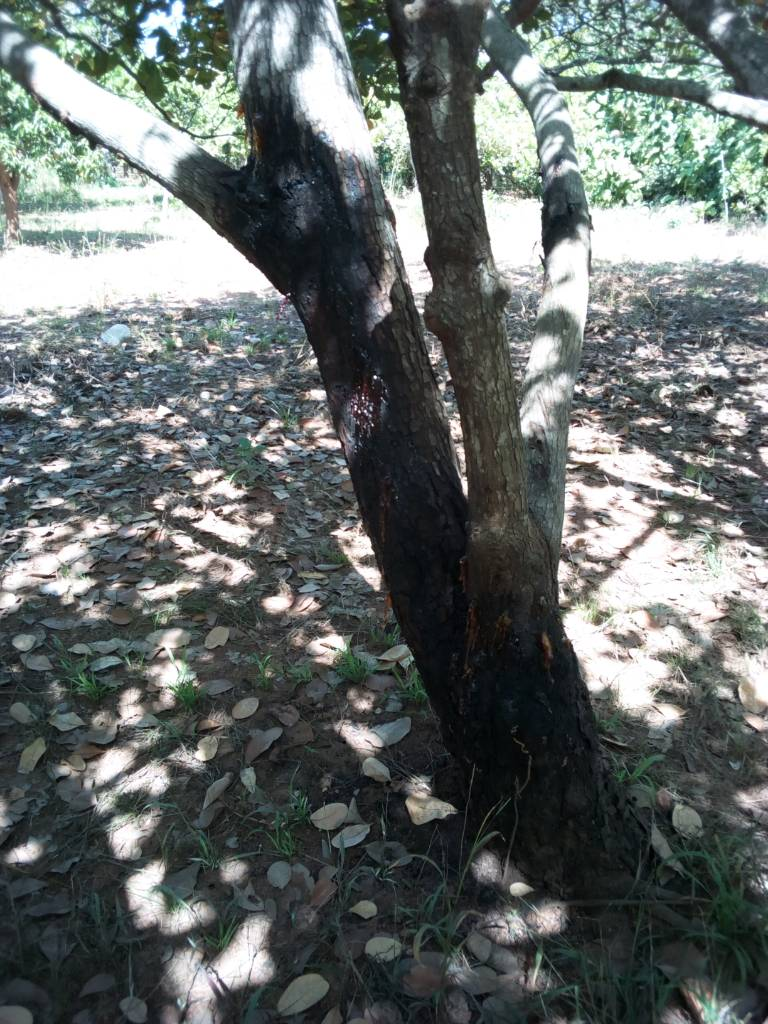Gommose: (205, 107, 369, 283), (440, 597, 571, 783), (341, 355, 440, 571)
